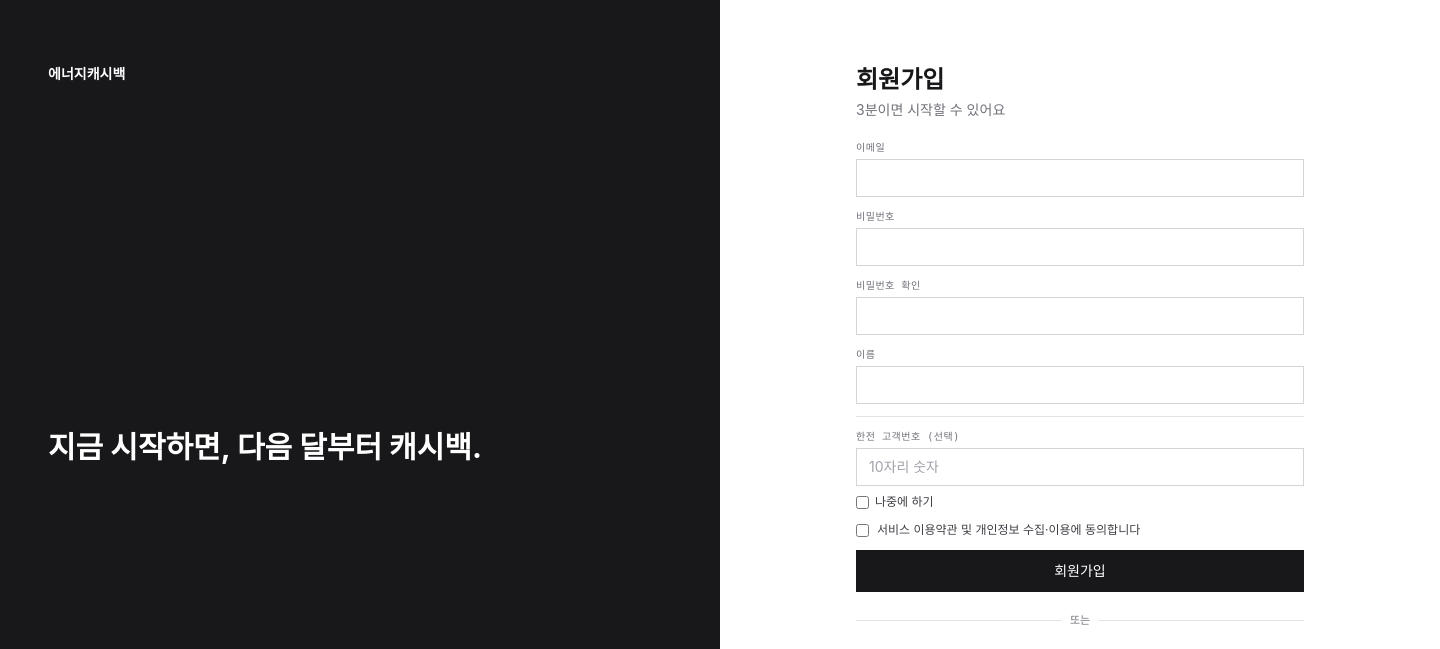
Test: SignupForm › 422 email taken shows server error
This screenshot has width=1440, height=649.
Type "taken@test.com" into the field labelled "이메일" at (1080, 178), box [856,159,1304,197]
Type "nilm-mock-2026!" into the password field labelled "비밀번호" at (1080, 247), box [856,228,1304,266]
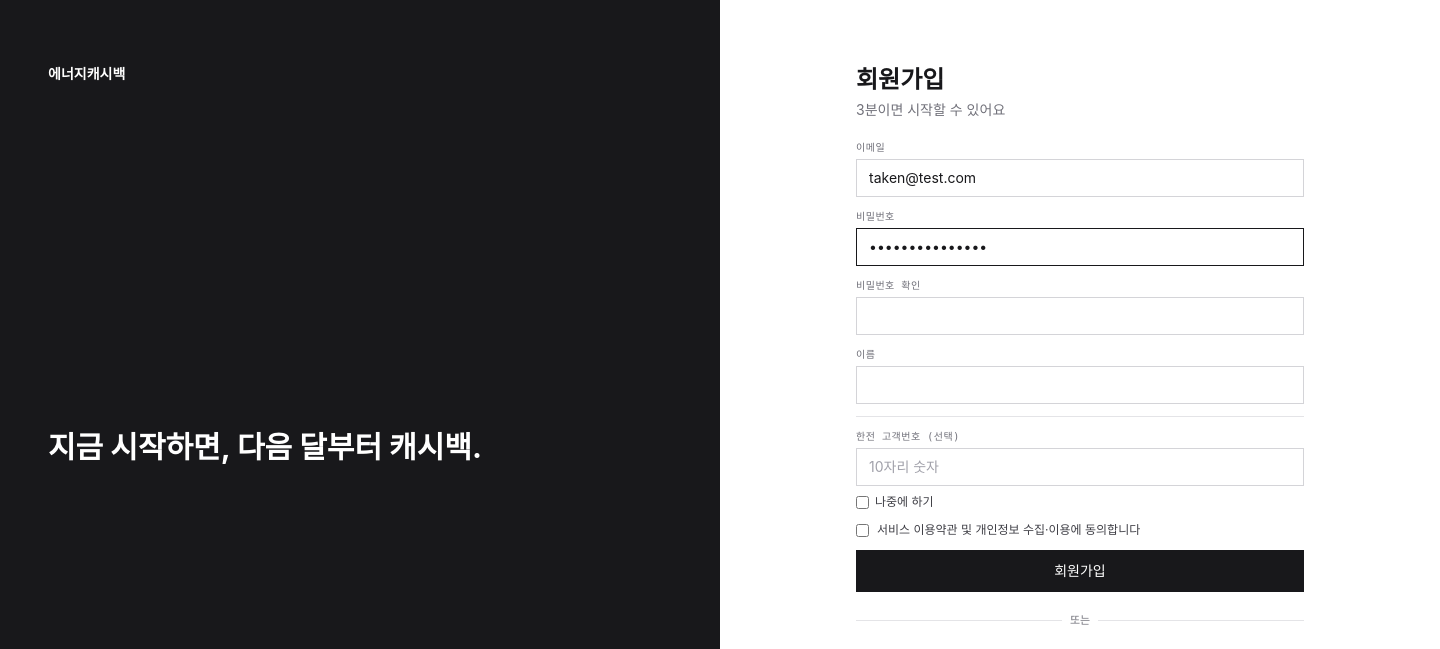
Type "nilm-mock-2026!" into the password field labelled "비밀번호 확인" at (1080, 316), box [856,297,1304,335]
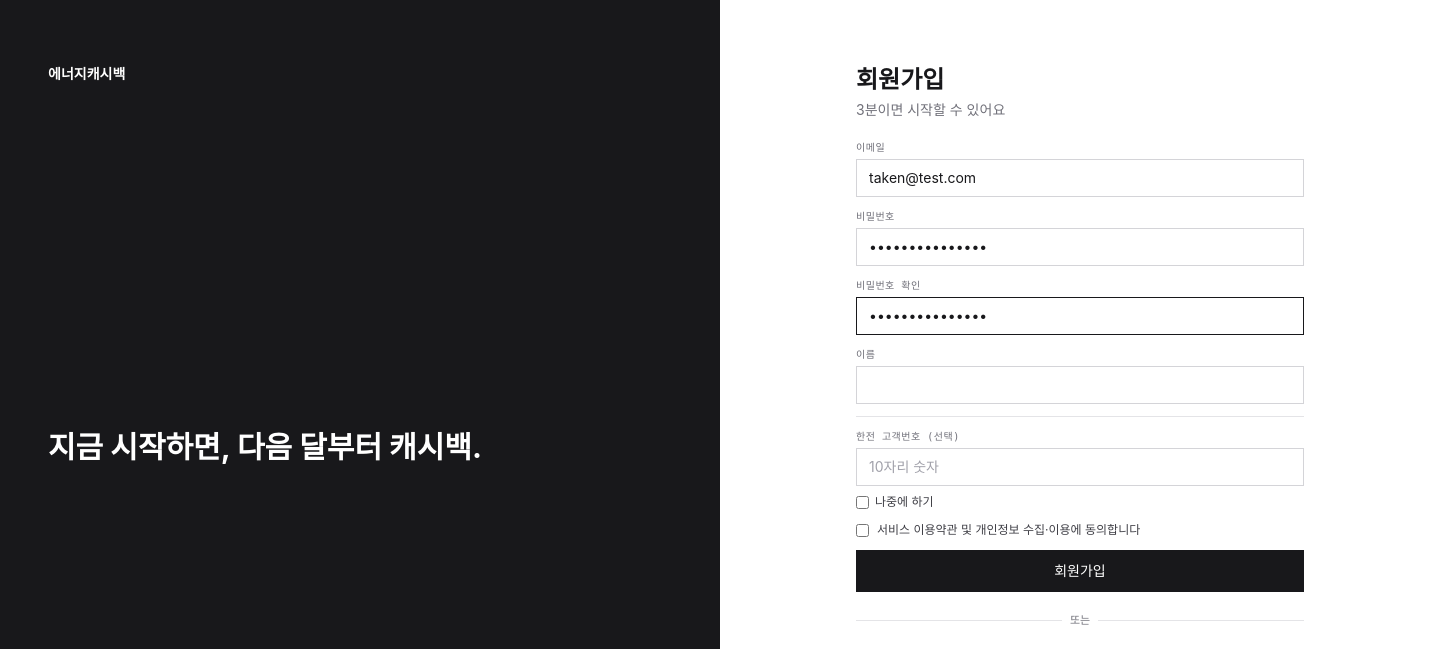
Type "테스터" into the field labelled "이름" at (1080, 385), box [856,366,1304,404]
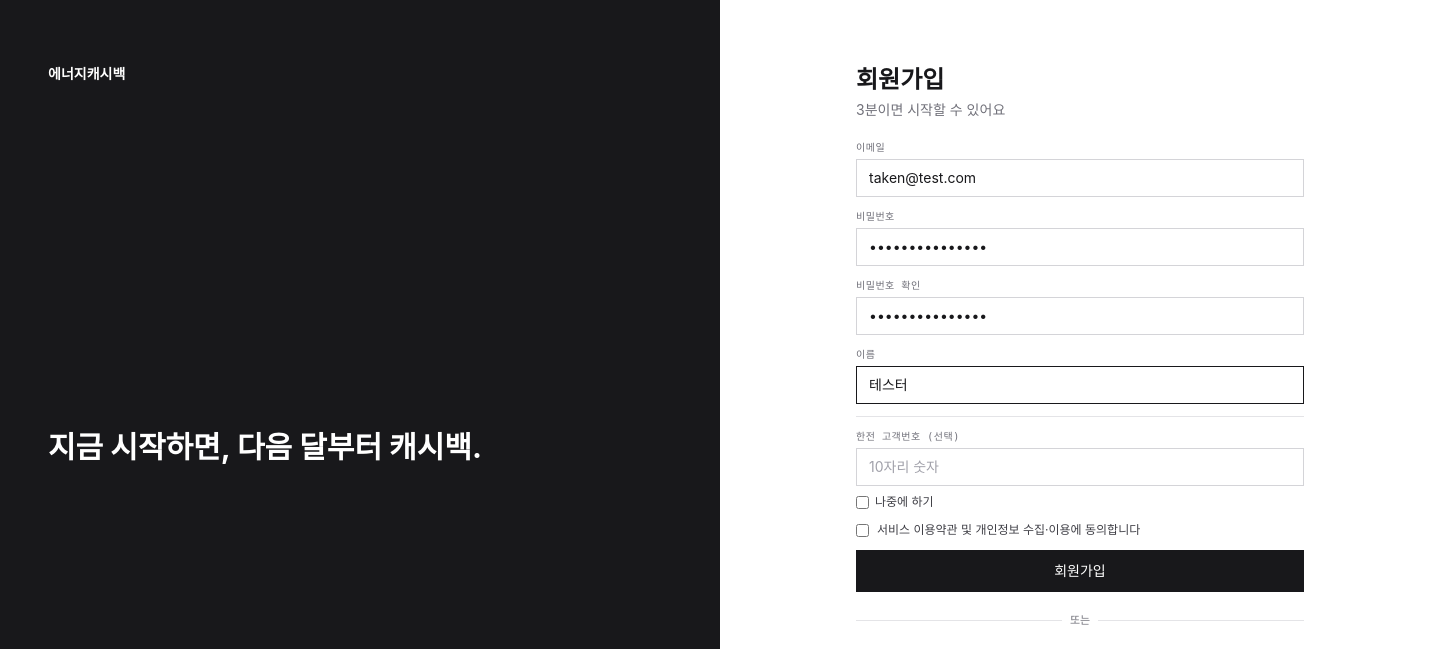
Click the checkbox labelled "나중에 하기" at (862, 502), box [856,496,869,508]
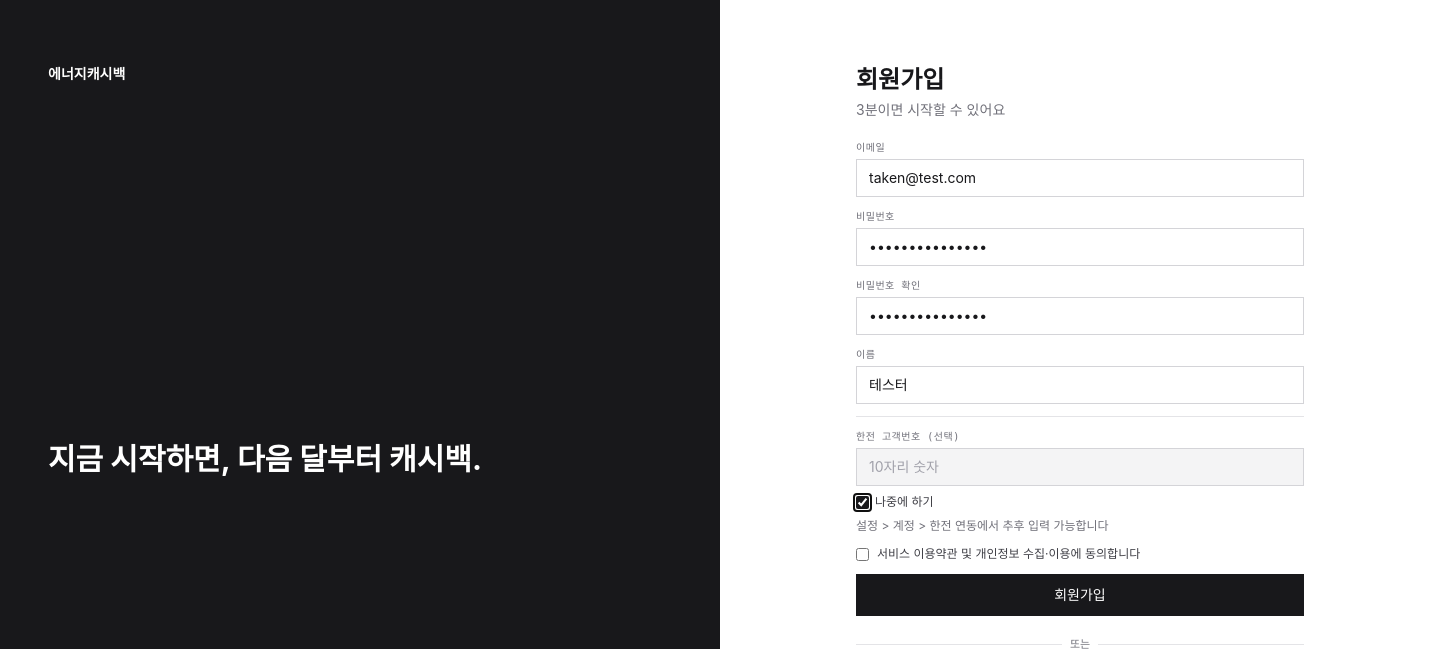
Click the checkbox labelled "서비스 이용약관 및 개인정보 수집·이용에 동의합니다" at (862, 554), box [856,548,869,561]
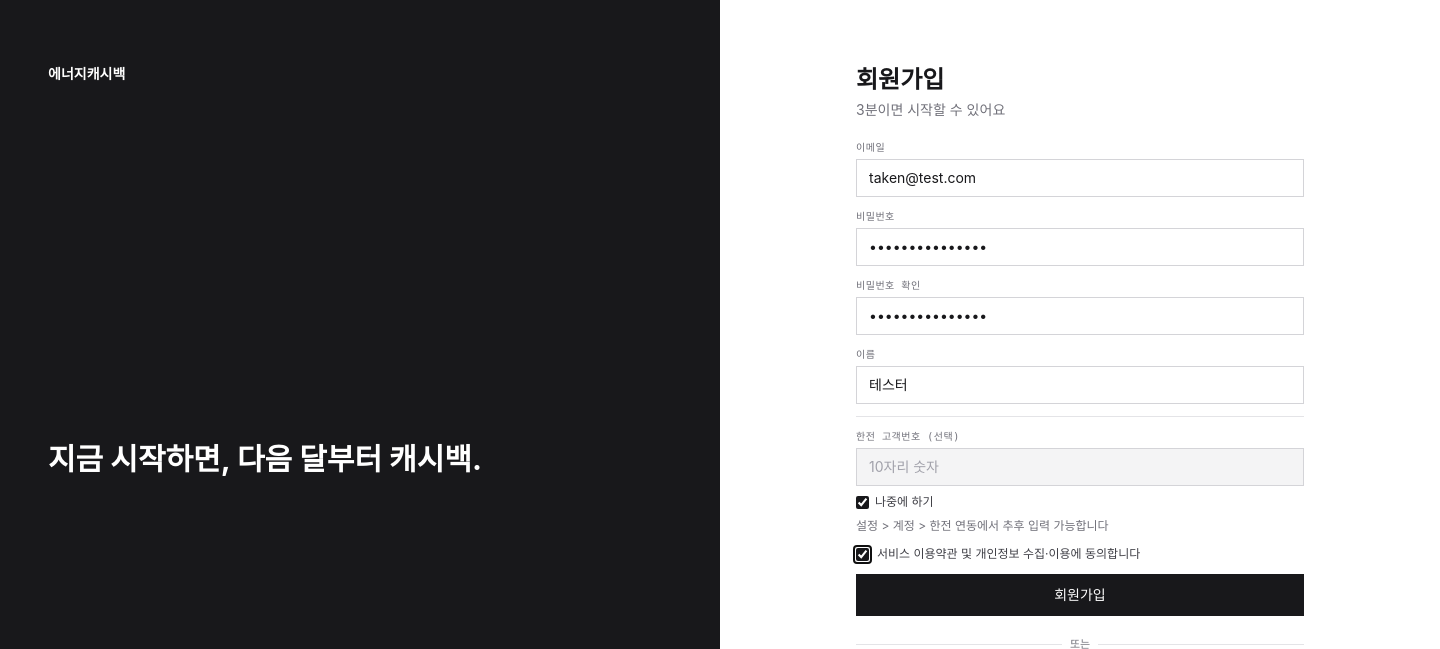
Click the button "회원가입" at (1080, 595), box [856,574,1304,616]
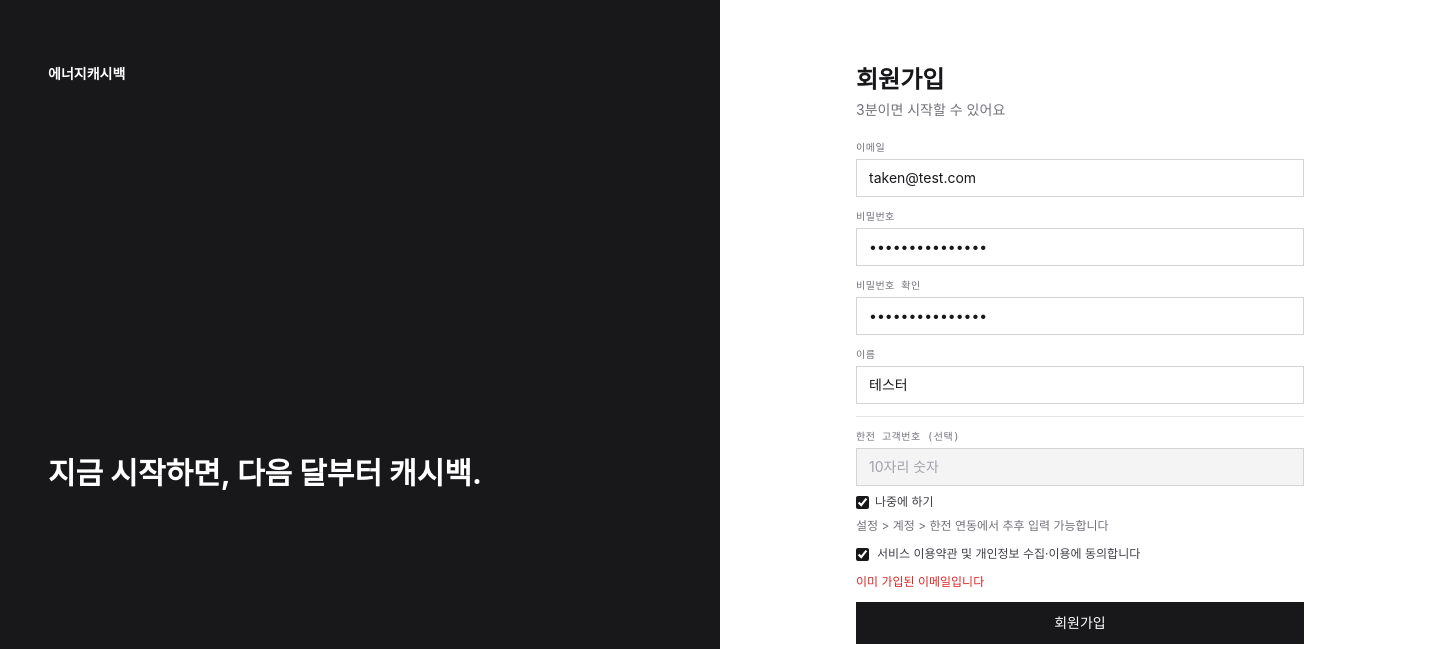
Expected: the text "이미 가입된 이메일입니다" is shown, [856,574,984,589]
